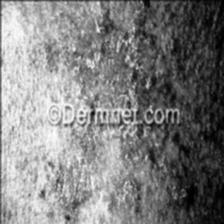Unclassified: (2, 0, 198, 100), (52, 134, 208, 218)
